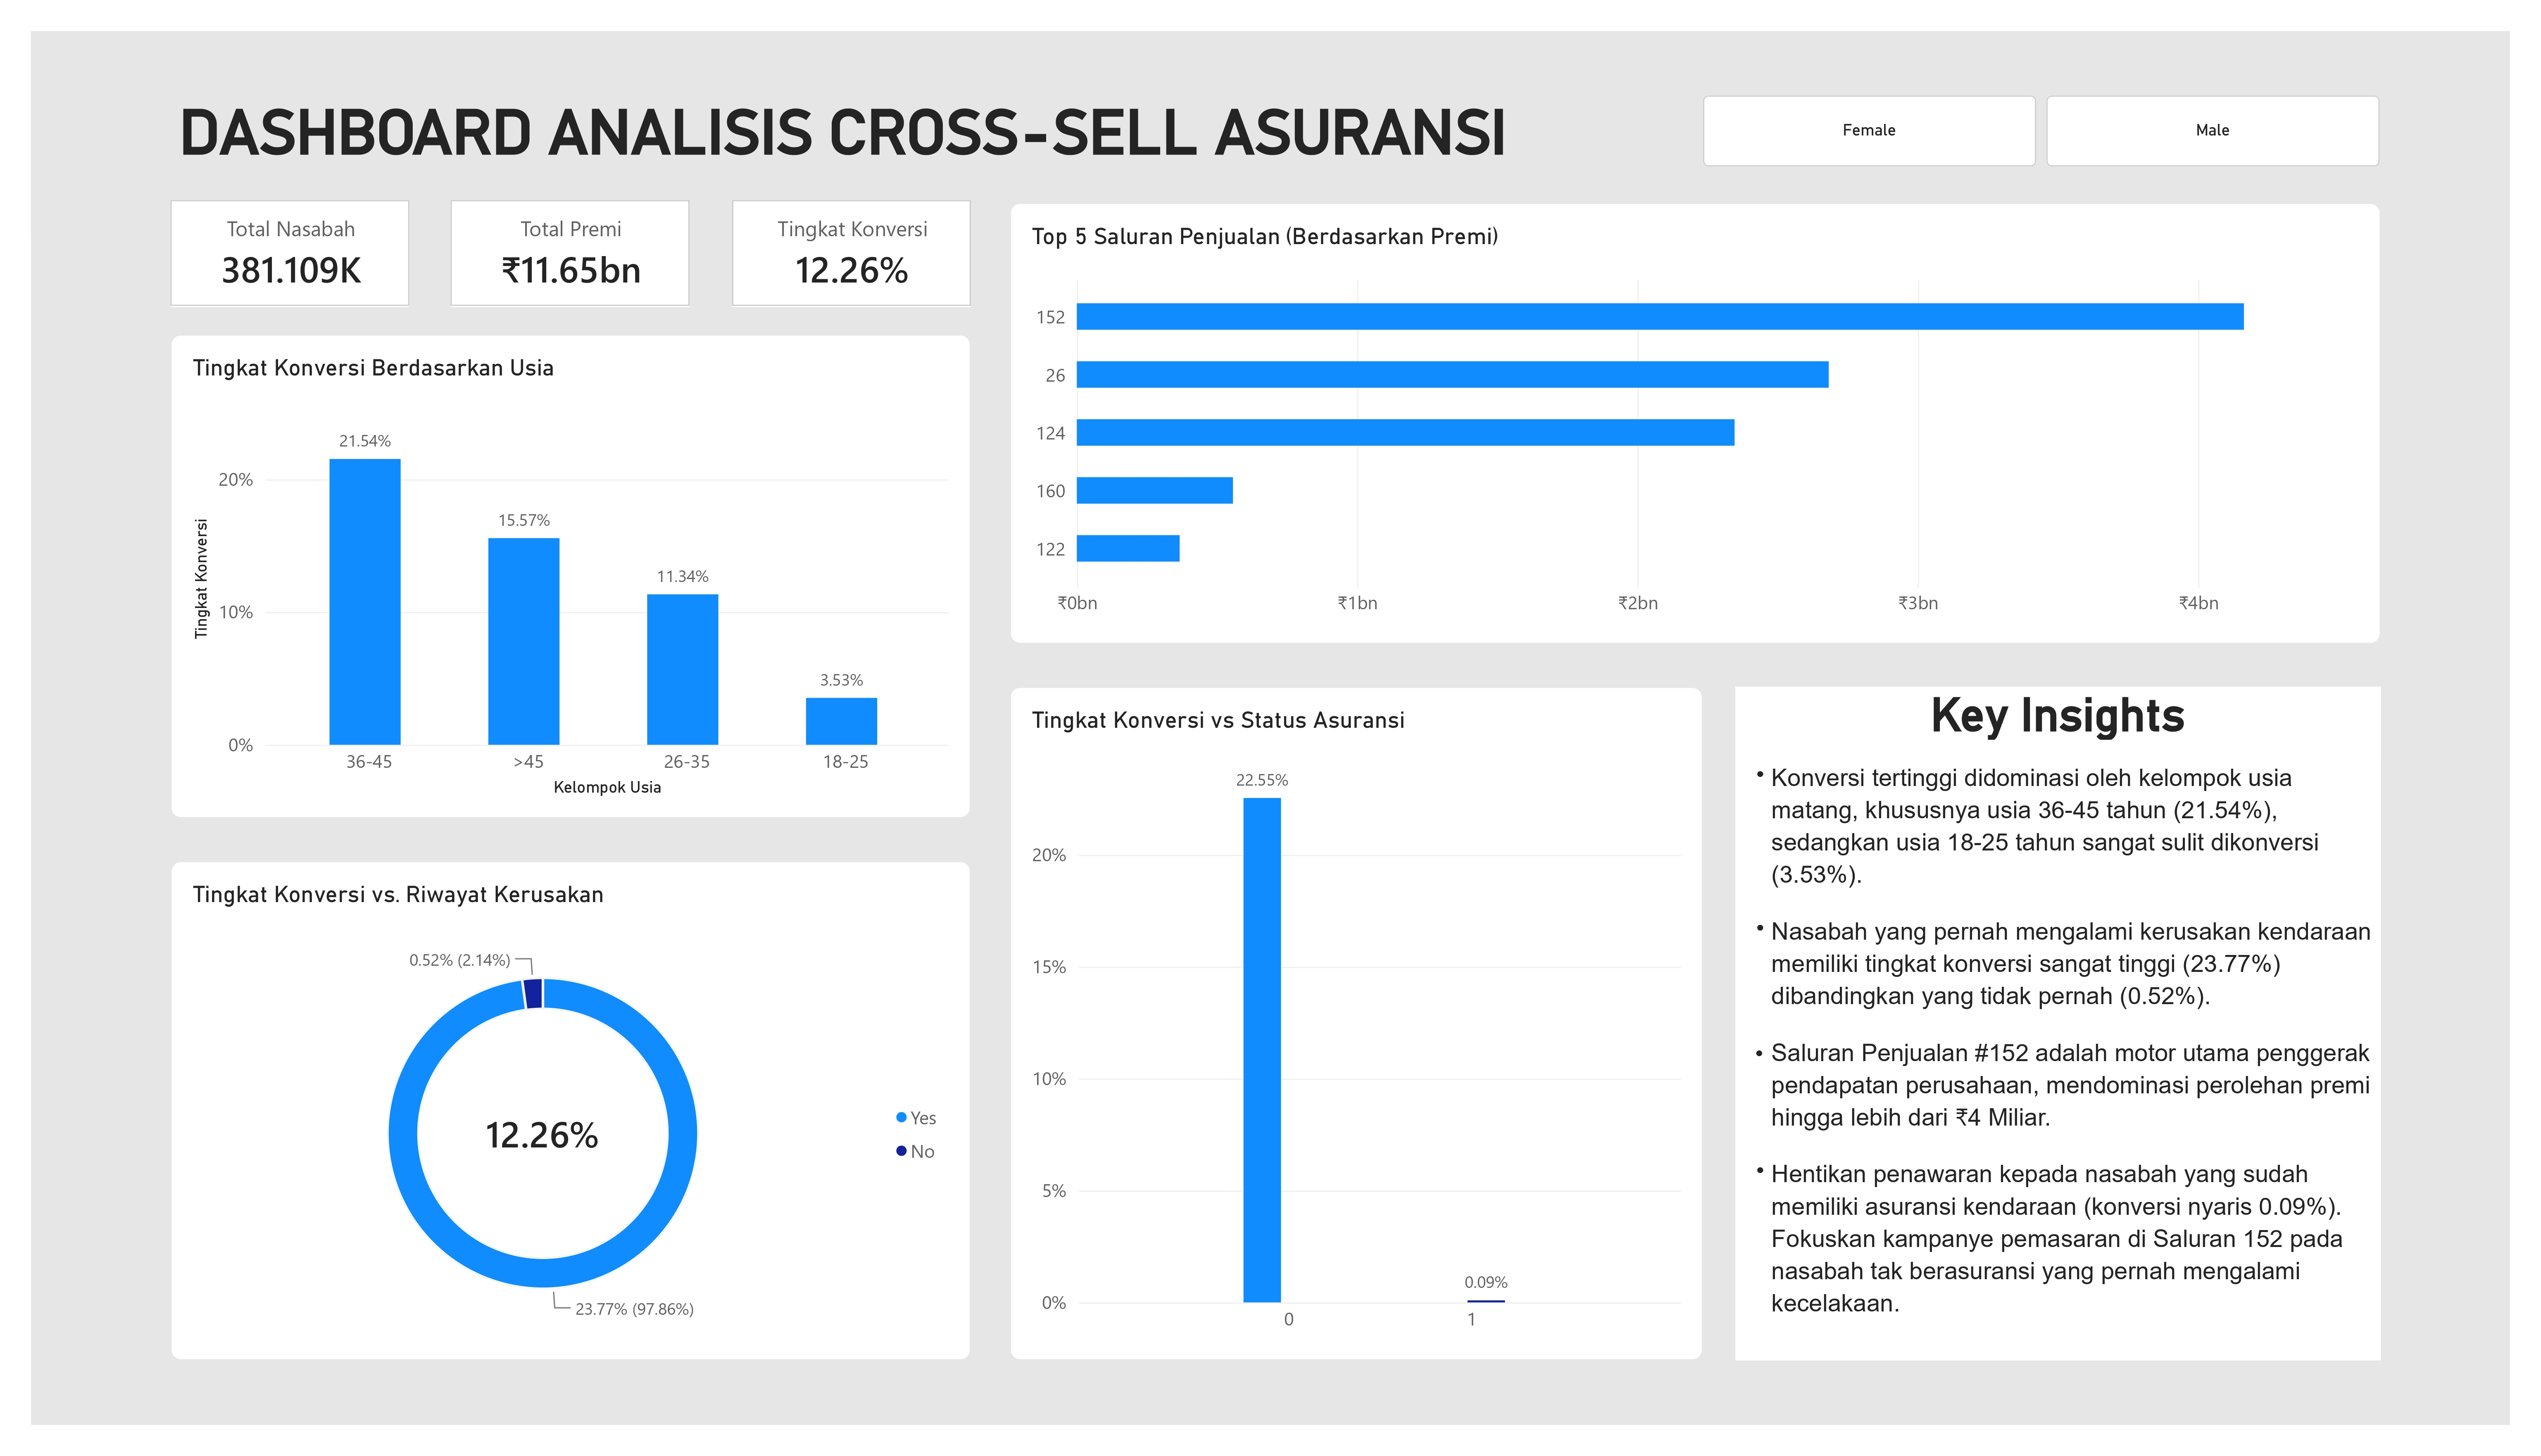

What the dashboard file says about the page in this screenshot:
{"tool":"powerbi","page":{"name":"Page 1","canvas":[1920,1080],"ordinal":0},"visuals":[{"type":"clusteredColumnChart","title":"Tingkat Konversi Berdasarkan Usia","fields":{"Category":["insurance_cross_sell dim_customer.Age_Group"],"Y":["Avg(insurance_cross_sell fact_cross_sell.Response)"]},"box":[107.5,235,620,375],"z":0},{"type":"donutChart","title":"Tingkat Konversi vs. Riwayat Kerusakan","fields":{"Category":["insurance_cross_sell dim_vehicle.Vehicle_Damage"],"Y":["Avg(insurance_cross_sell fact_cross_sell.Response)"]},"box":[107.5,642.5,620,387.5],"z":1000},{"type":"cardVisual","title":"Total Nasabah","fields":{"Data":["Count(insurance_cross_sell dim_customer.id)"]},"box":[107.5,131.2,185,82.5],"z":2000},{"type":"cardVisual","title":"Total Premi","fields":{"Data":["Sum(insurance_cross_sell fact_cross_sell.Annual_Premium)"]},"box":[325,131.2,185,82.5],"z":3000},{"type":"cardVisual","title":"Tingkat Konversi","fields":{"Data":["Avg(insurance_cross_sell fact_cross_sell.Response)"]},"box":[542.5,131.2,185,82.5],"z":4000},{"type":"textbox","box":[115,49.5,1134,56],"z":5000},{"type":"advancedSlicerVisual","fields":{"Values":["insurance_cross_sell dim_customer.Gender"]},"box":[1295,50,525,55],"z":6000},{"type":"clusteredBarChart","title":"Top 5 Saluran Penjualan (Berdasarkan Premi)","fields":{"Category":["insurance_cross_sell fact_cross_sell.Policy_Sales_Channel"],"Y":["Sum(insurance_cross_sell fact_cross_sell.Annual_Premium)"]},"box":[757.5,132.5,1062.5,342.5],"z":7000},{"type":"clusteredColumnChart","title":"Tingkat Konversi vs Status Asuransi","fields":{"Category":["insurance_cross_sell fact_cross_sell.Previously_Insured"],"Y":["Avg(insurance_cross_sell fact_cross_sell.Response)"]},"box":[757.5,507.5,537.5,522.5],"z":8000},{"type":"textbox","title":"Key Insights","box":[1320,507.5,500,522.5],"z":9000}]}

Visuals, with their boxes on the page's 1920x1080 design canvas (x1, y1, x2, y2). These are canvas units, not pixel positions in the 2541x1456 screenshot, which may show the page scaled, cropped or inside an application window:
"Tingkat Konversi Berdasarkan Usia" clusteredColumnChart: BBox(108, 235, 728, 610)
"Tingkat Konversi vs. Riwayat Kerusakan" donutChart: BBox(108, 642, 728, 1030)
"Total Nasabah" cardVisual: BBox(108, 131, 292, 214)
"Total Premi" cardVisual: BBox(325, 131, 510, 214)
"Tingkat Konversi" cardVisual: BBox(542, 131, 728, 214)
textbox: BBox(115, 50, 1249, 106)
advancedSlicerVisual - insurance_cross_sell dim_customer.Gender: BBox(1295, 50, 1820, 105)
"Top 5 Saluran Penjualan (Berdasarkan Premi)" clusteredBarChart: BBox(758, 132, 1820, 475)
"Tingkat Konversi vs Status Asuransi" clusteredColumnChart: BBox(758, 508, 1295, 1030)
"Key Insights" textbox: BBox(1320, 508, 1820, 1030)
